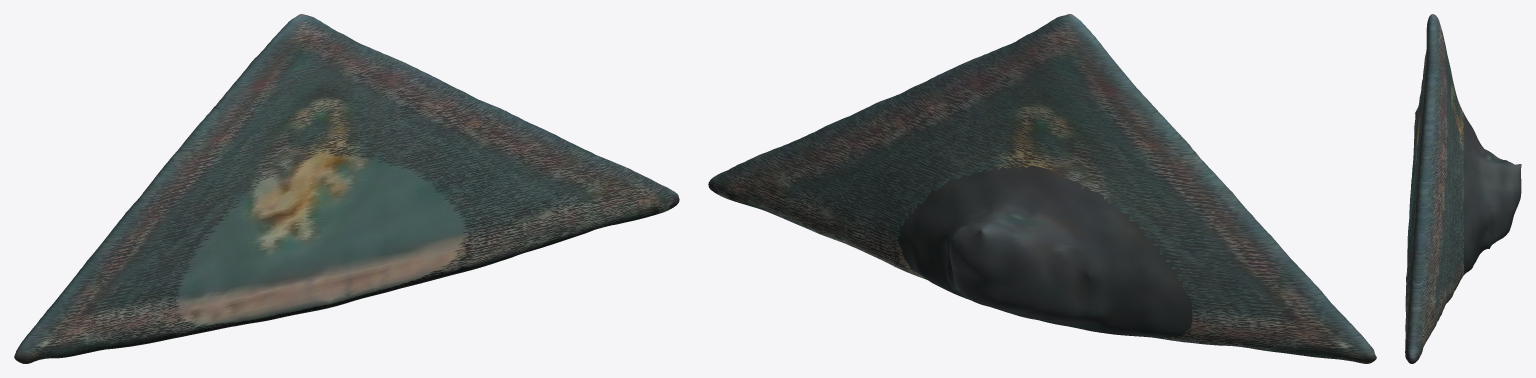
File: kfl-2308.glb
The picture shows the model from 3 angles, left to right: view 1: azimuth 30°, elevation 25°; view 2: azimuth 150°, elevation 25°; view 3: azimuth 270°, elevation 25°; orthographic projection. The views are drawn at different scales.
Parts seen in each view (by area): view 1: geometry_0; view 2: geometry_0; view 3: geometry_0.
Boxes of the visible parts, left/top/right/bottom form: geometry_0: left=14, top=14, right=679, bottom=363; geometry_0: left=708, top=14, right=1376, bottom=363; geometry_0: left=1405, top=14, right=1521, bottom=363.
Size of the model in its own units: 0.9856 by 0.4169 by 0.1931.
Materials: 1 (1 with a texture image).
